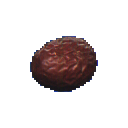gd: (16, 33, 101, 97)
